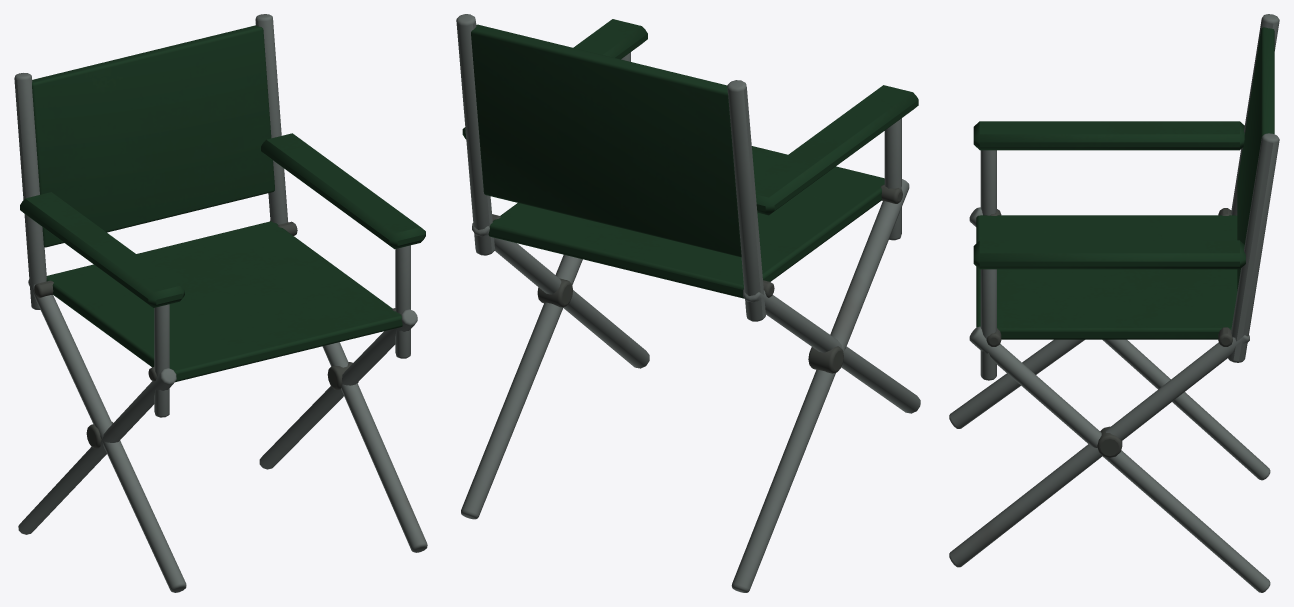
Rendered from level_hc_native_043_0.glb.
The picture shows the model from 3 angles, left to right: view 1: azimuth 30°, elevation 25°; view 2: azimuth 150°, elevation 25°; view 3: azimuth 270°, elevation 25°; orthographic projection. The views are drawn at different scales.
Visible parts, largest first — view 1: level_hc_native_043_0; view 2: level_hc_native_043_0; view 3: level_hc_native_043_0.
Boxes of the visible parts, <box> form: level_hc_native_043_0: <box>14,14,427,592</box>; level_hc_native_043_0: <box>456,14,920,592</box>; level_hc_native_043_0: <box>949,14,1279,592</box>.
Size of the model in its own units: 0.645 by 1.01 by 0.6554.
1 material, 1 textured.
